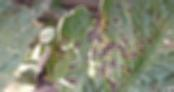Tomato Septoria leaf spot: (19, 0, 174, 92)
